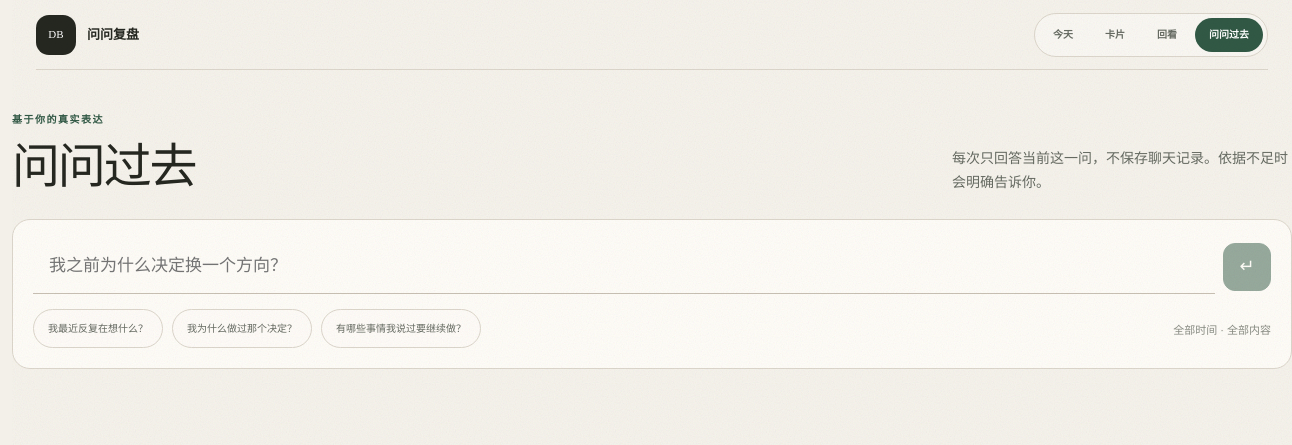
Test: DailyReflectionQuery › fails closed for malformed or unsourced success responses
This screenshot has width=1292, height=445.
Type "测试问题" into the field named "你想问什么" at (624, 267), box [33,240,1215,294]
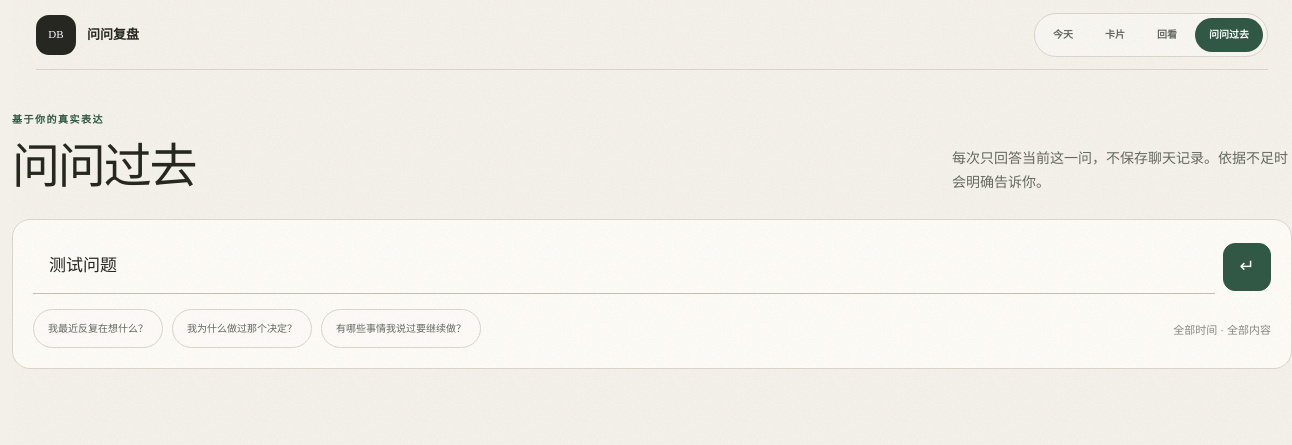
Click the button named "查找" at (1247, 267), box [1223,243,1271,291]
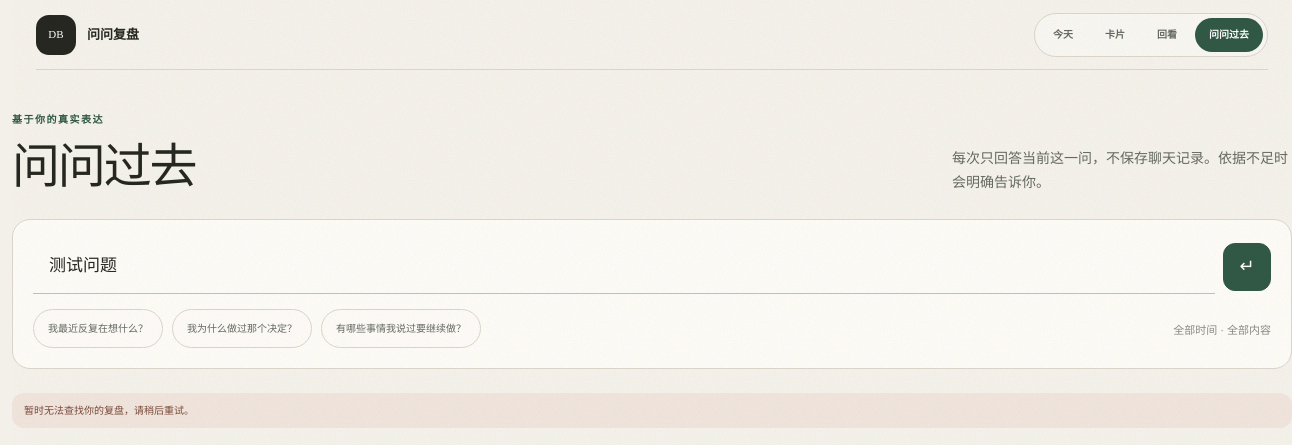
Expected: the message reads "暂时无法查找你的复盘，请稍后重试。", [24,405,194,416]
